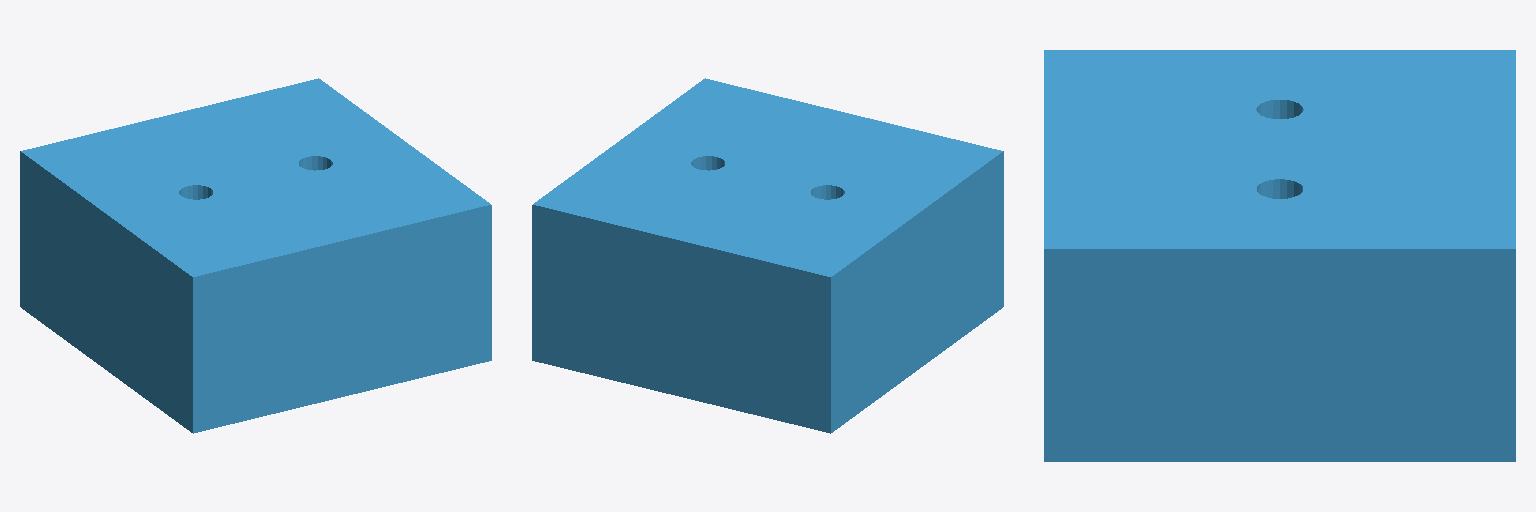
The robot description file, URDF, robot "block_largerHole":
<?xml version="1.0"?>
<robot name="block_largerHole">

<link name="world"/>
<joint name="fixed" type="fixed">
  <parent link="world"/>
  <child link="base_link"/>
</joint>

<link name="base_link">

  <collision>
    <origin xyz="0 0 0" rpy="0 0 0"/>
    <geometry>
      <mesh filename="package://ur_description/meshes/ur3/collision/block_largerHole.dae" scale="1 1 1"/>
    </geometry>
  </collision>

  <visual>
    <origin xyz="0 0 0" rpy="0 0 0"/>
    <geometry>
      <mesh filename="package://ur_description/meshes/ur3/visual/block_largerHole.dae" scale="1 1 1"/>
    </geometry>
  </visual>

  <inertial>
   <origin xyz="0 0 0" rpy="0 0 0"/>
   <mass value="100" />
   <inertia
      ixx="0.00000379215" ixy="0.0"  ixz="0.0"
      iyy="0.00000379215" iyz="0.0"  izz="0.00000379215" />
  </inertial>

</link>

<gazebo reference="base_link">
  <mu1>100</mu1>
  <mu2>100</mu2>
  <kp>2147483647</kp>
  <kd>1</kd>
  <maxVel>0</maxVel>
  <minDepth>0.001</minDepth>
  <material>Gazebo/Grey</material>
</gazebo>

</robot>

--- What the picture shows (computed from the rendered views, not written in the file) ---
The picture shows the robot from 3 angles, left to right: view 1: azimuth 30°, elevation 25°; view 2: azimuth 150°, elevation 25°; view 3: azimuth 270°, elevation 25°; orthographic projection.
Robot: block_largerHole — 2 links, 1 joints (1 fixed); root link world; default pose: all joints at 0.
Visible links, largest first — view 1: base_link; view 2: base_link; view 3: base_link.
Link boxes in pixels (x1,y1,x2,y2): base_link: (20,78,491,433); base_link: (532,78,1003,433); base_link: (1044,50,1515,461).
Bounding box of the posed robot: 0.1 × 0.1 × 0.05 m (x, y, z).
Meshes: 1 distinct files referenced, 1 mesh visuals loaded (1 Collada DAE).
